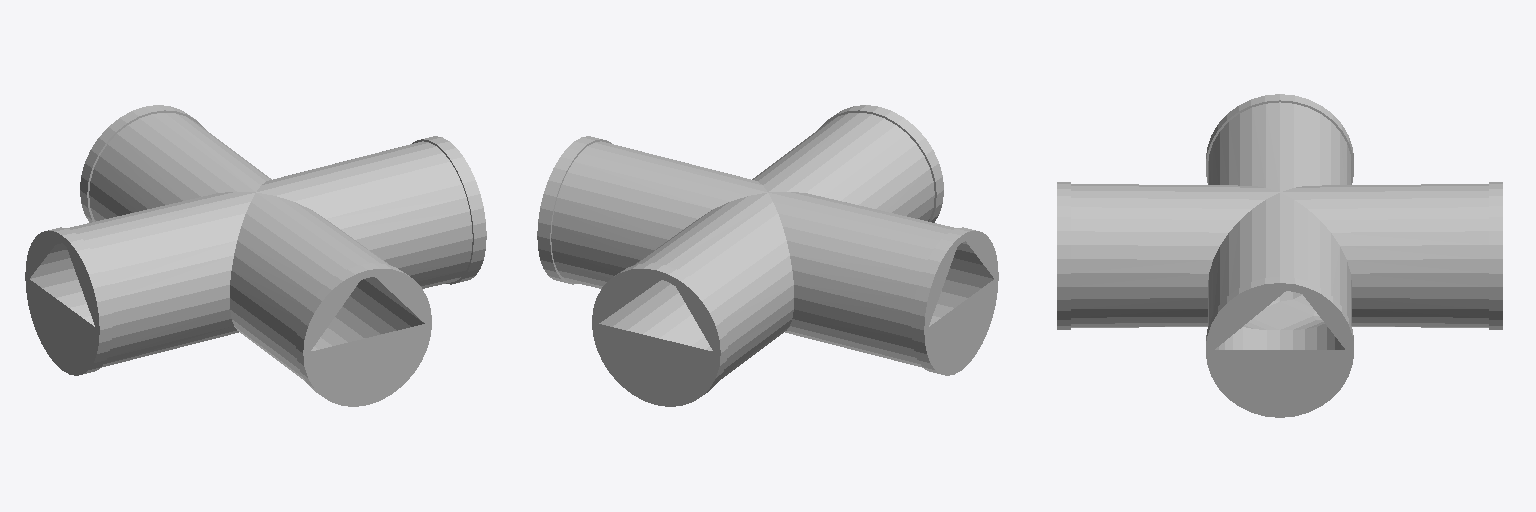
Rendered from plusShapePipe.obj.
The picture shows the model from 3 angles: view 1: azimuth 30°, elevation 25°; view 2: azimuth 150°, elevation 25°; view 3: azimuth 270°, elevation 25°; orthographic projection.
Visible parts, largest first — view 1: PlusShapePipe_Cylinder.005; view 2: PlusShapePipe_Cylinder.005; view 3: PlusShapePipe_Cylinder.005.
Part boxes in pixels (x1,y1,x2,y2): PlusShapePipe_Cylinder.005: (25, 105, 486, 406); PlusShapePipe_Cylinder.005: (537, 105, 998, 406); PlusShapePipe_Cylinder.005: (1057, 94, 1502, 417).
Bounding box in the file's own units: 3 × 1 × 3.